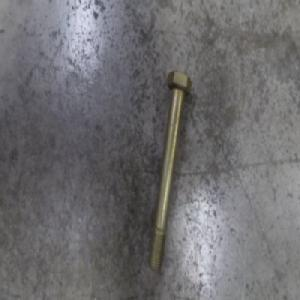Bolt: (147, 69, 193, 272)
